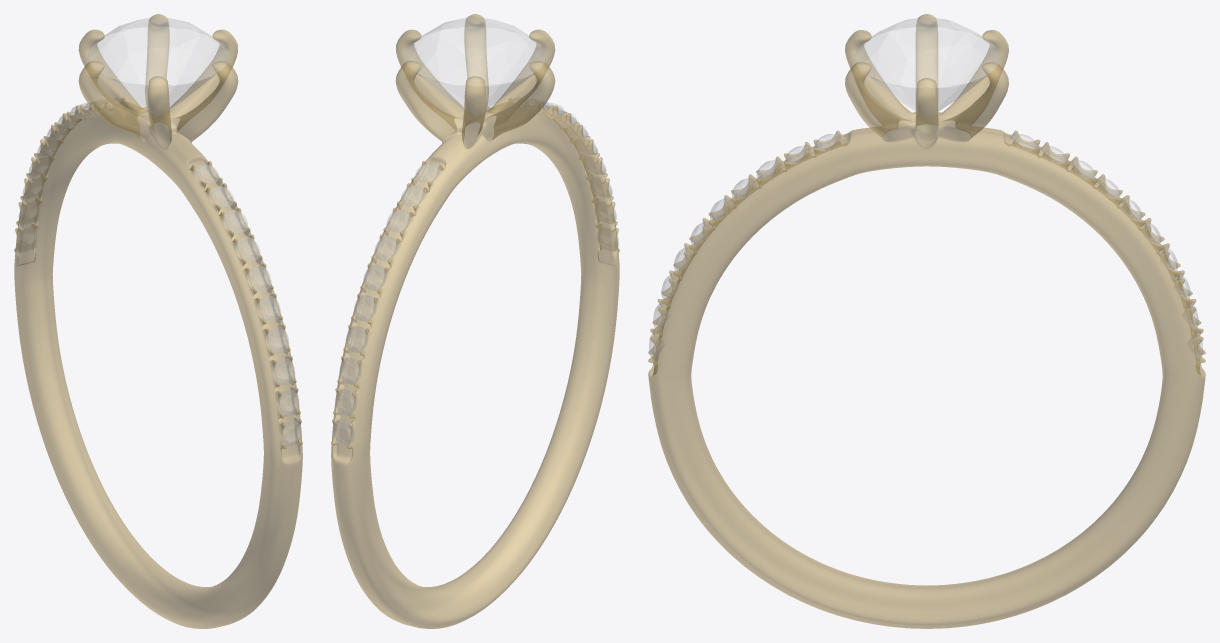
The picture shows the model from 3 angles, left to right: view 1: azimuth 30°, elevation 25°; view 2: azimuth 150°, elevation 25°; view 3: azimuth 270°, elevation 25°; orthographic projection. The views are drawn at different scales.
Parts seen in each view (by area): view 1: Ring, Diamond; view 2: Ring, Diamond; view 3: Ring, Diamond.
Part boxes in pixels (x1,y1,x2,y2): Ring: [14, 14, 302, 628]; Diamond: [17, 18, 301, 446]; Ring: [331, 14, 619, 628]; Diamond: [333, 18, 618, 445]; Ring: [648, 14, 1205, 628]; Diamond: [649, 17, 1202, 358].
Bounding box in the file's own units: 0.7783 × 2.74 × 2.34.
